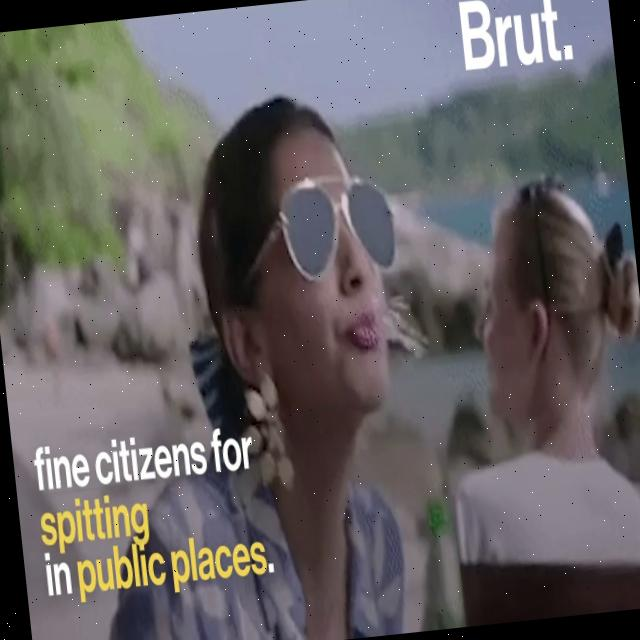spit: (326, 230, 515, 483)
